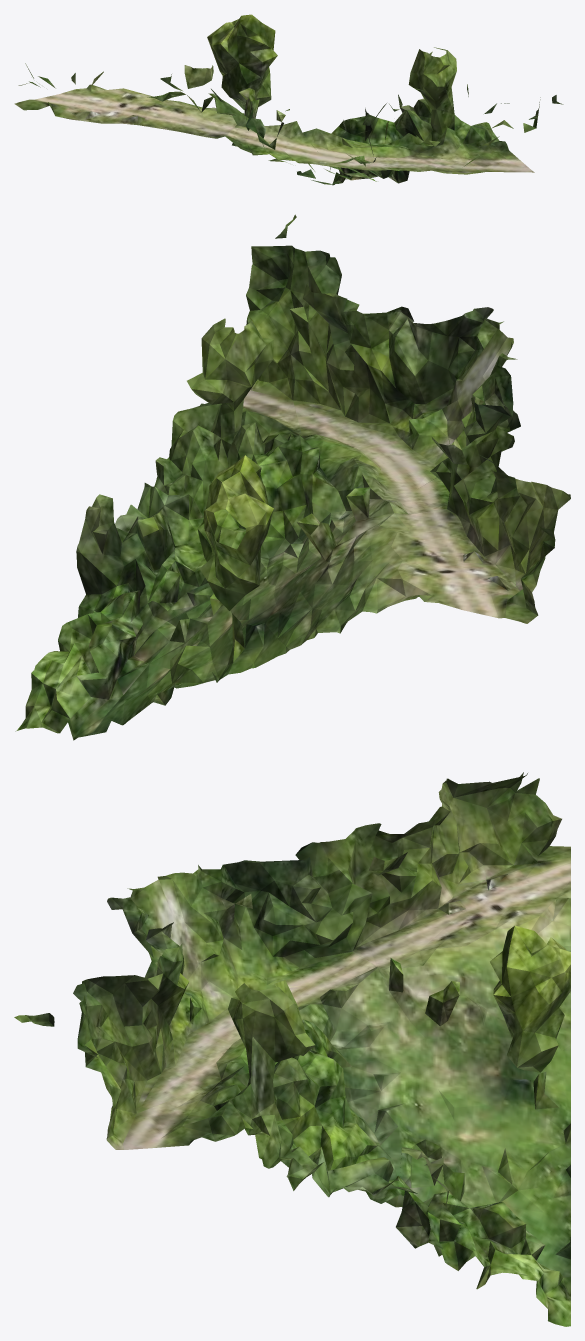
3 renders of one model, top to bottom at view 1: azimuth 30°, elevation 25°; view 2: azimuth 150°, elevation 25°; view 3: azimuth 270°, elevation 25°, orthographic. The views are drawn at different scales.
Bounding box in the file's own units: 52.22 × 30.37 × 49.51.
3 materials, 3 textured.
